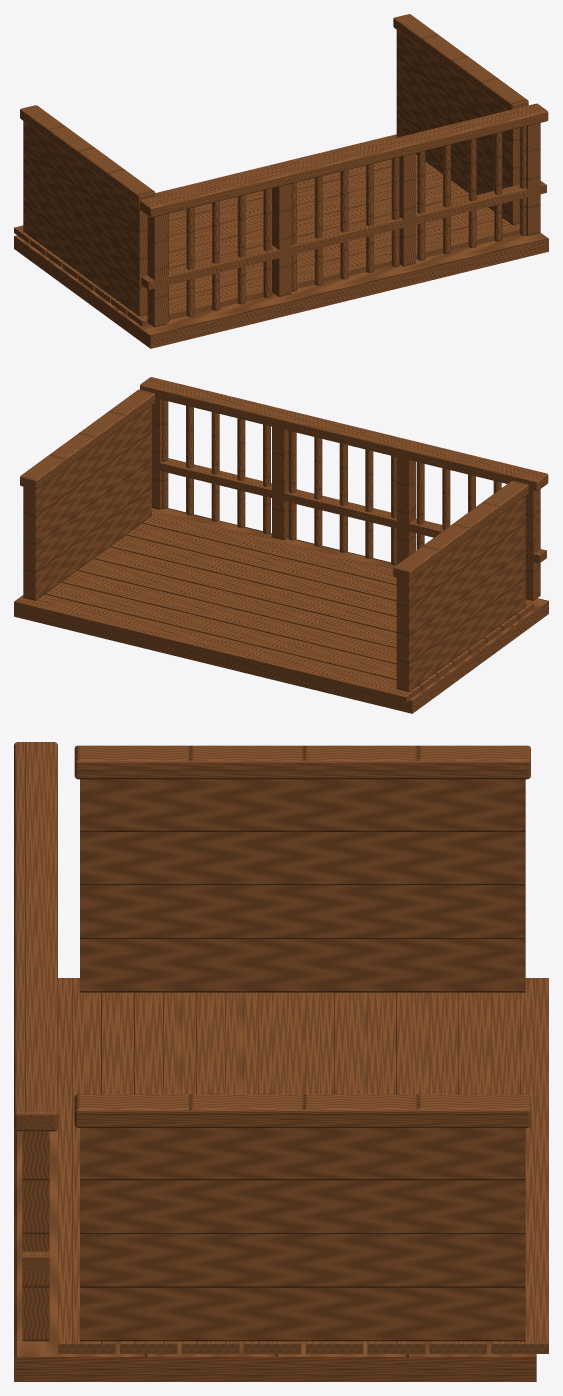
Rendered from wild-west-frontier-town-upper-balcony-section-11dc2712__30131.glb.
3 views of the same model, one above another, from view 1: azimuth 30°, elevation 25°; view 2: azimuth 150°, elevation 25°; view 3: azimuth 270°, elevation 25° (orthographic). The views are drawn at different scales.
Parts seen in each view (by area): view 1: upper-balcony-section; view 2: upper-balcony-section; view 3: upper-balcony-section.
Boxes of the visible parts, <box> form: upper-balcony-section: <box>14,14,548,348</box>; upper-balcony-section: <box>14,377,548,713</box>; upper-balcony-section: <box>14,742,548,1381</box>.
Size of the model in its own units: 3.2 by 1.08 by 1.95.
Materials: 1 (1 with a texture image).
